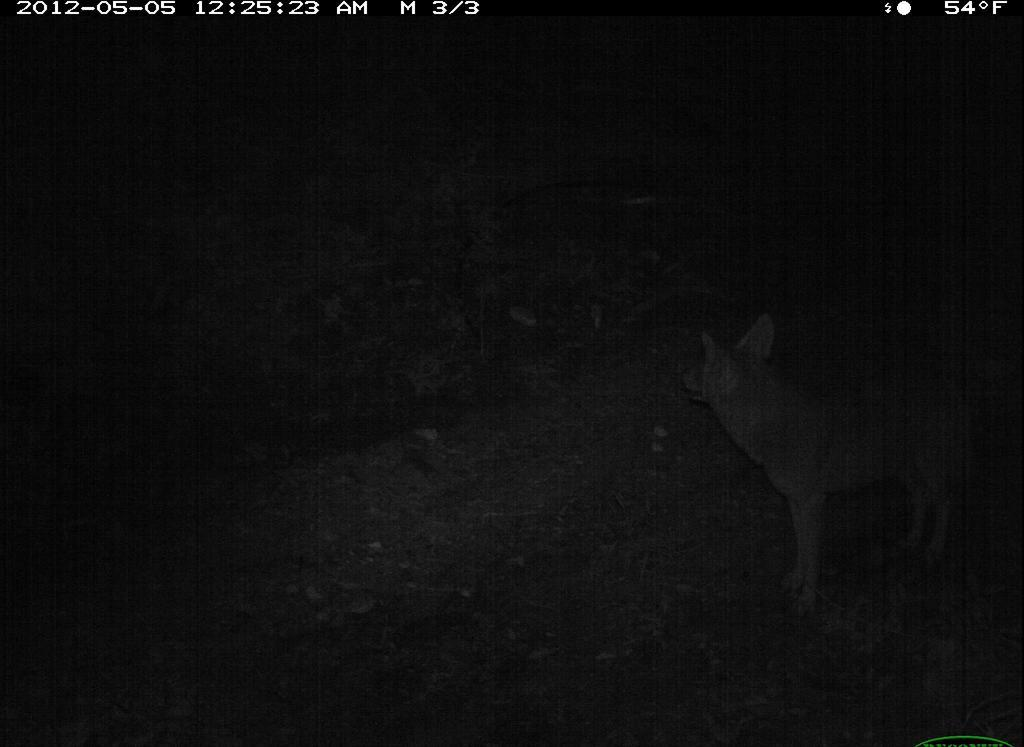coyote: (674, 304, 998, 624)
